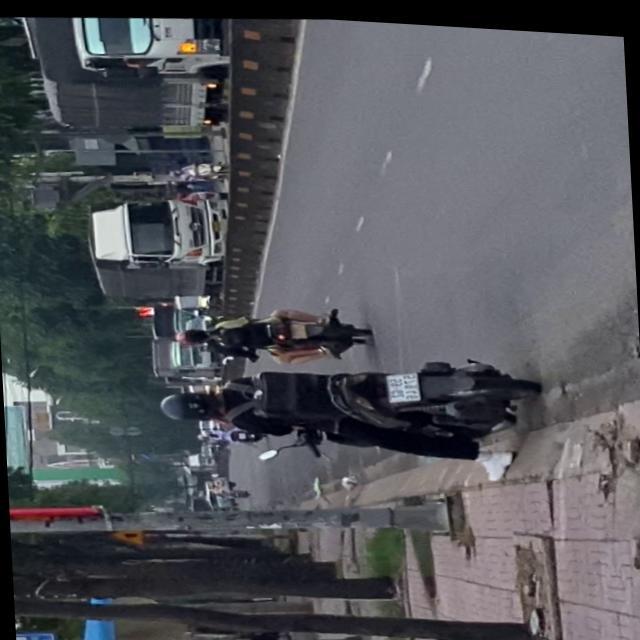helmet: (158, 383, 224, 422)
licenseplate: (153, 334, 540, 475)
nohelmet: (385, 365, 420, 397)
